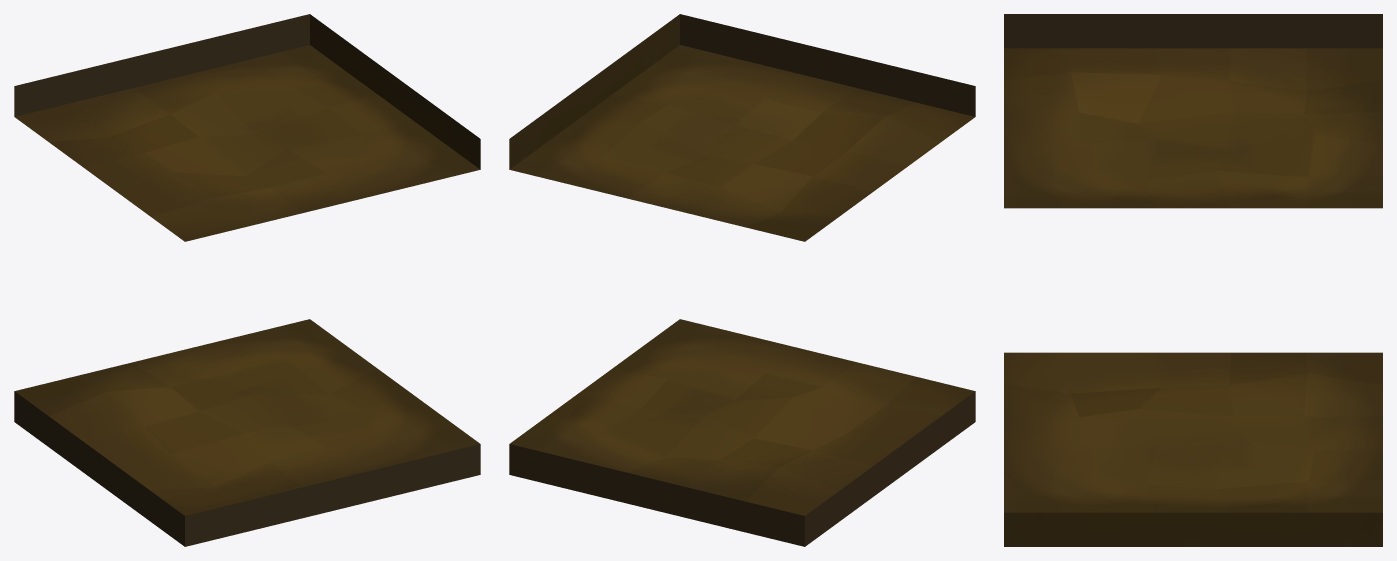
Rendered from EarthFloor3-2021.glb.
3 views of the same model, side by side, from view 1: azimuth 30°, elevation 25°; view 2: azimuth 150°, elevation 25°; view 3: azimuth 270°, elevation 25° (orthographic). The views are drawn at different scales.
Parts seen in each view (by area): view 1: Cube; view 2: Cube; view 3: Cube.
Boxes of the visible parts, x1,y1,x2,y2 form: Cube: [14, 14, 480, 546]; Cube: [509, 14, 975, 546]; Cube: [1004, 14, 1382, 546].
Bounding box in the file's own units: 2 × 2.17 × 2.
1 material, 1 textured.
